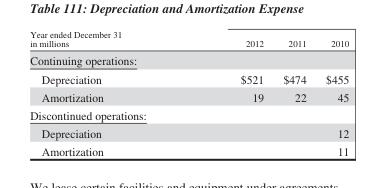table: (29, 29, 348, 157)
table column: (29, 29, 180, 157), (180, 29, 272, 157), (272, 29, 315, 157), (315, 29, 348, 157)
table column header: (29, 29, 348, 51)
table projected row header: (29, 51, 348, 69), (29, 105, 348, 123)
table row: (29, 29, 348, 51), (29, 51, 348, 69), (29, 69, 348, 87), (29, 87, 348, 105), (29, 105, 348, 123), (29, 123, 348, 141), (29, 141, 348, 157)
